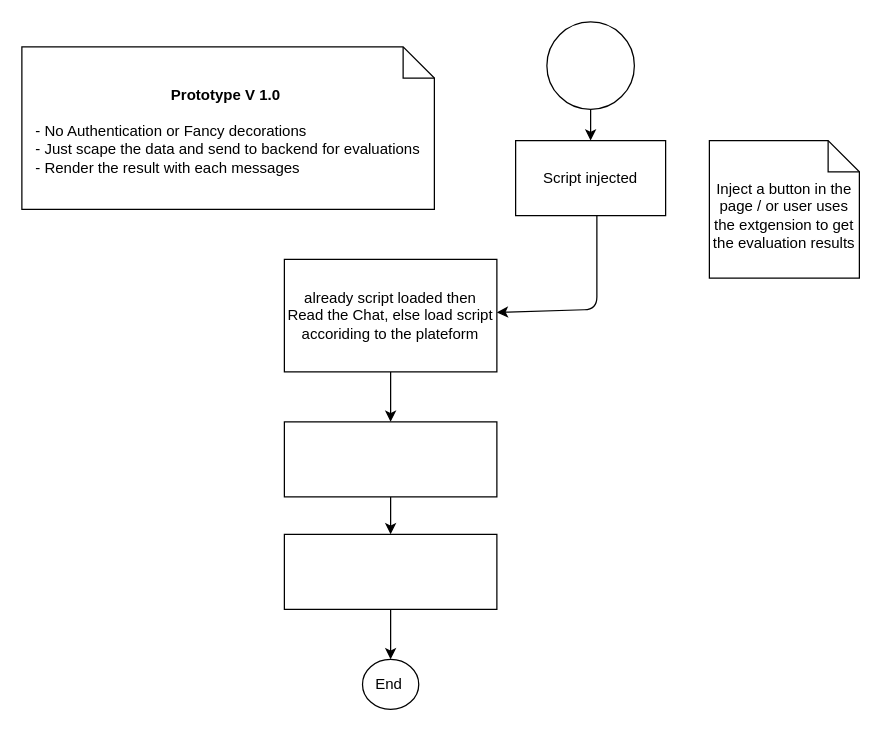
Image size: 881x731. Some labels were removed from this diagram. The shapes that lost their labels are listed below. From the top down, each one's centre as x and y in pixels, then its label:
[590,65]: web-page loaded
[390,459]: Read data and process
[390,571]: Call api and display the score
